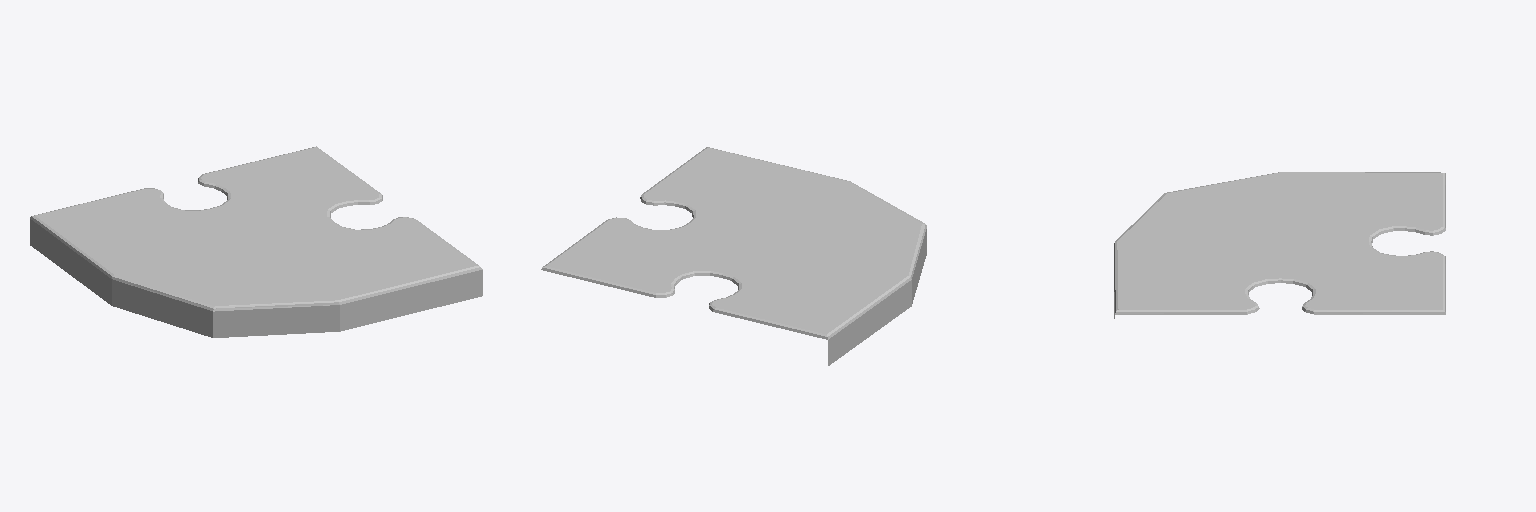
The model's file is Corner Bottom Left Dips.obj.
3 renders of one model, left to right at view 1: azimuth 30°, elevation 25°; view 2: azimuth 150°, elevation 25°; view 3: azimuth 270°, elevation 25°, orthographic.
Parts seen in each view (by area): view 1: PuzzleCornerBottomLeftDips; view 2: PuzzleCornerBottomLeftDips; view 3: PuzzleCornerBottomLeftDips.
Boxes of the visible parts, box(x1,y1,x2,y2) form: PuzzleCornerBottomLeftDips: box(30, 146, 482, 337); PuzzleCornerBottomLeftDips: box(541, 147, 926, 365); PuzzleCornerBottomLeftDips: box(1114, 172, 1445, 318).
Size of the model in its own units: 593 by 59.05 by 593.